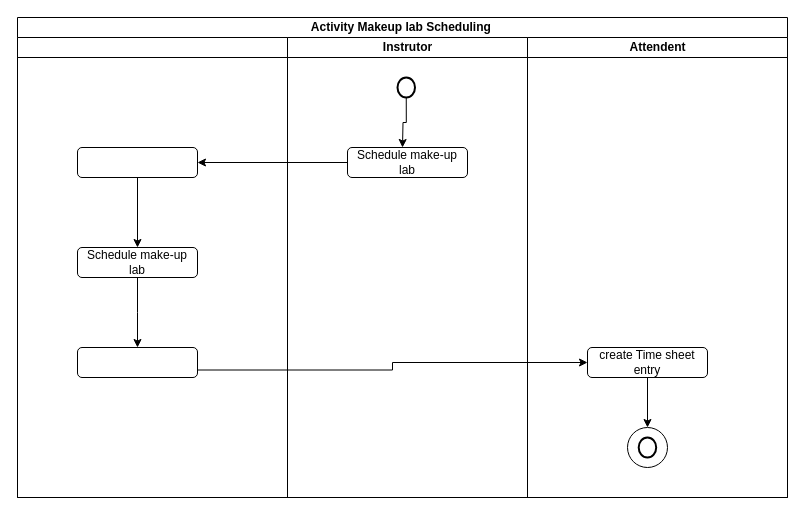
The diagram is 805 pixels wide and 515 high, and some of its shapes have lost their labels. The shapes that lost their labels are listed below. From the top down, each one's box as (x1, y1, x2, y2) in pixels, then its label:
(76, 146, 198, 178): Schedule section
(16, 36, 288, 498): Academic Officer
(76, 346, 198, 378): Lab Scheduled
